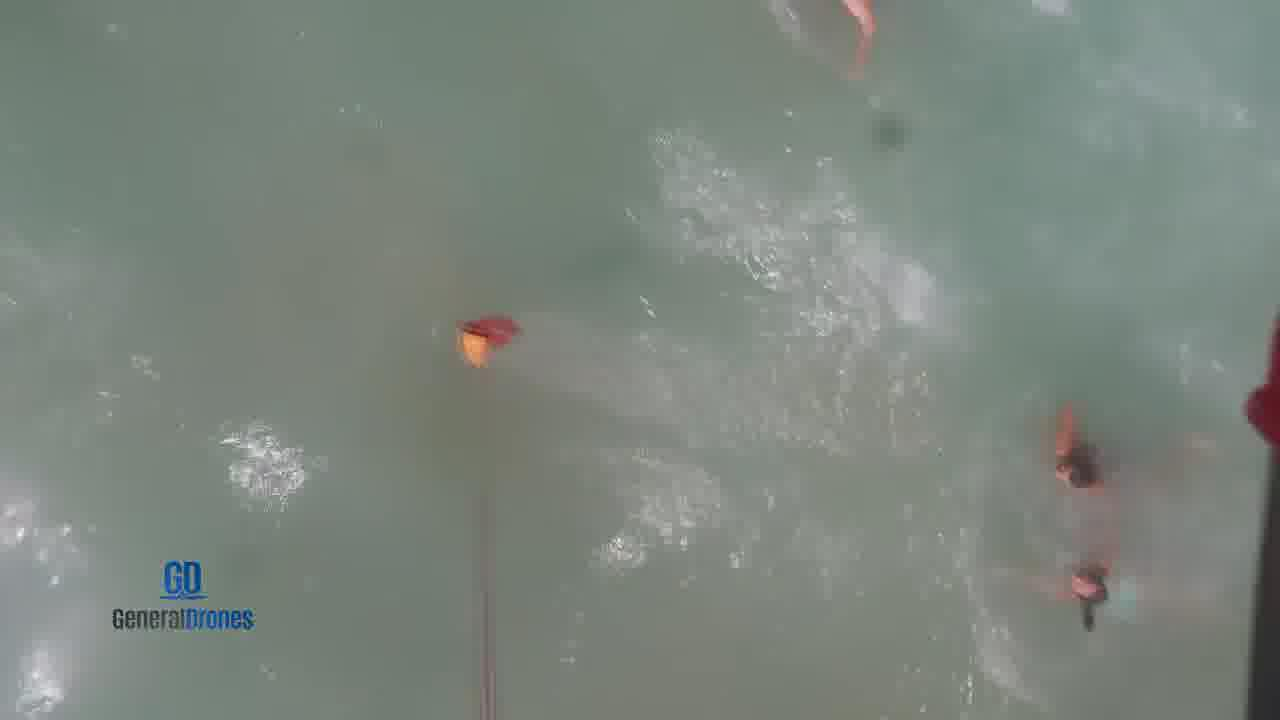human: (1024, 540, 1144, 628), (1031, 399, 1121, 507)
